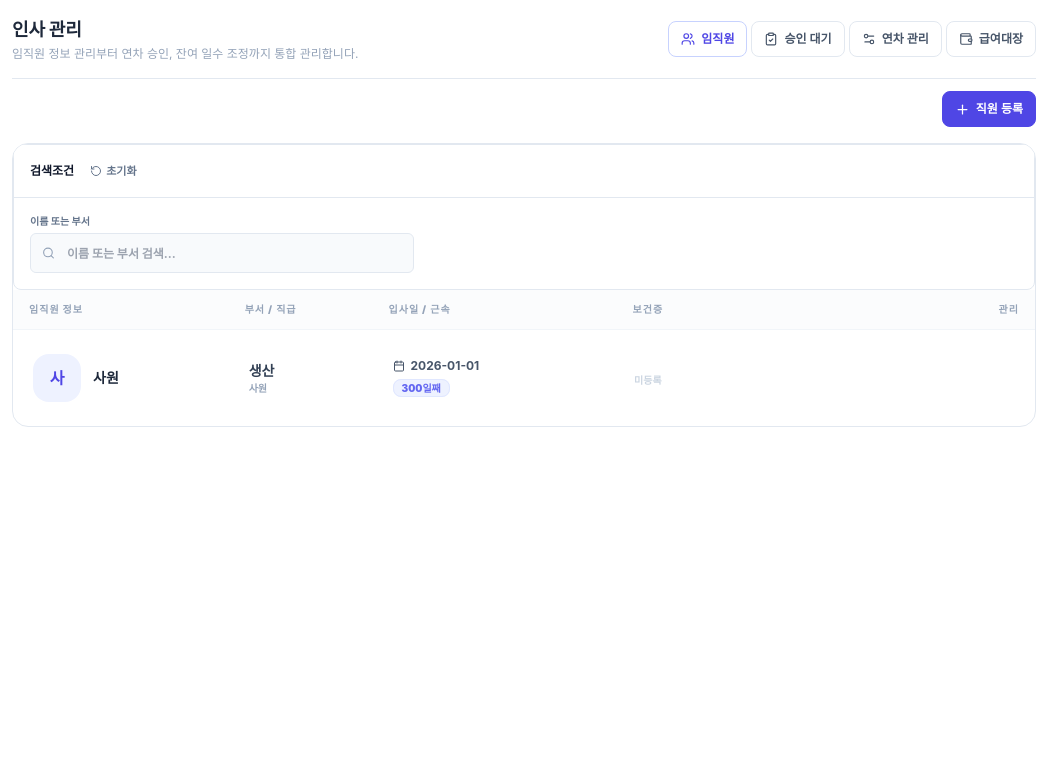
Test: 급여 저장 중 모든 변경을 잠그고 UID 변경 뒤 이전 ACK 안내를 새 계정에 표시하지 않는다
This screenshot has width=1048, height=768.
Click the button "급여대장" at (991, 39), box [946,21,1036,57]
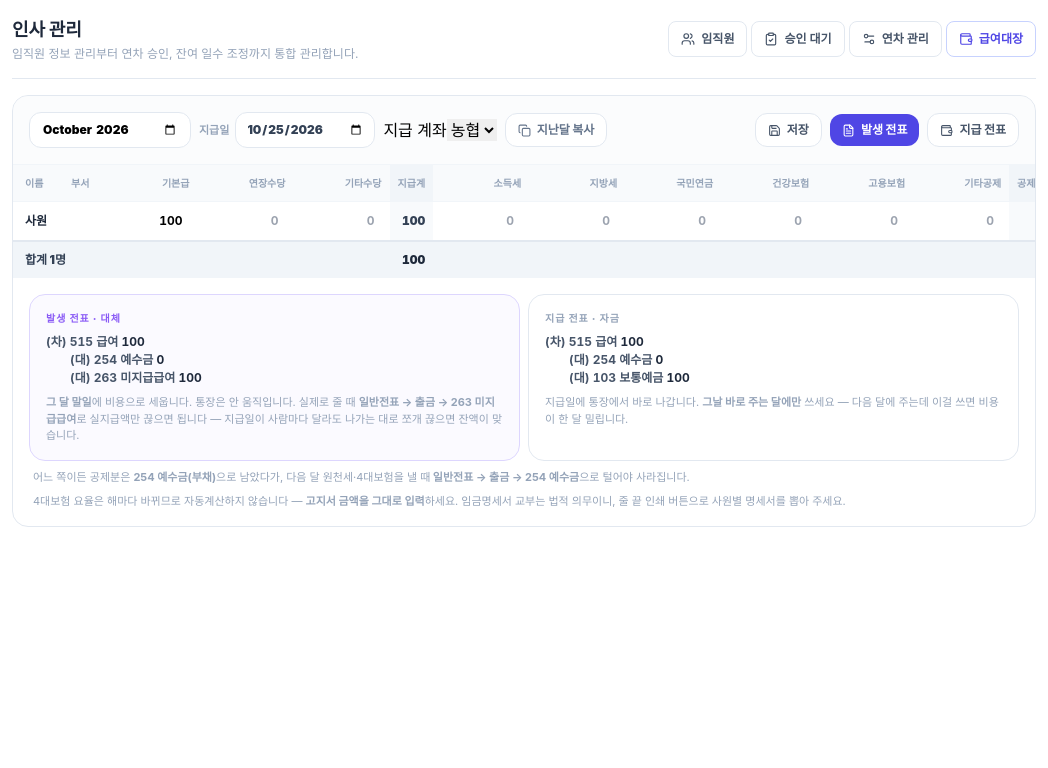
Click the button "저장" at (788, 130), box [755,113,822,147]
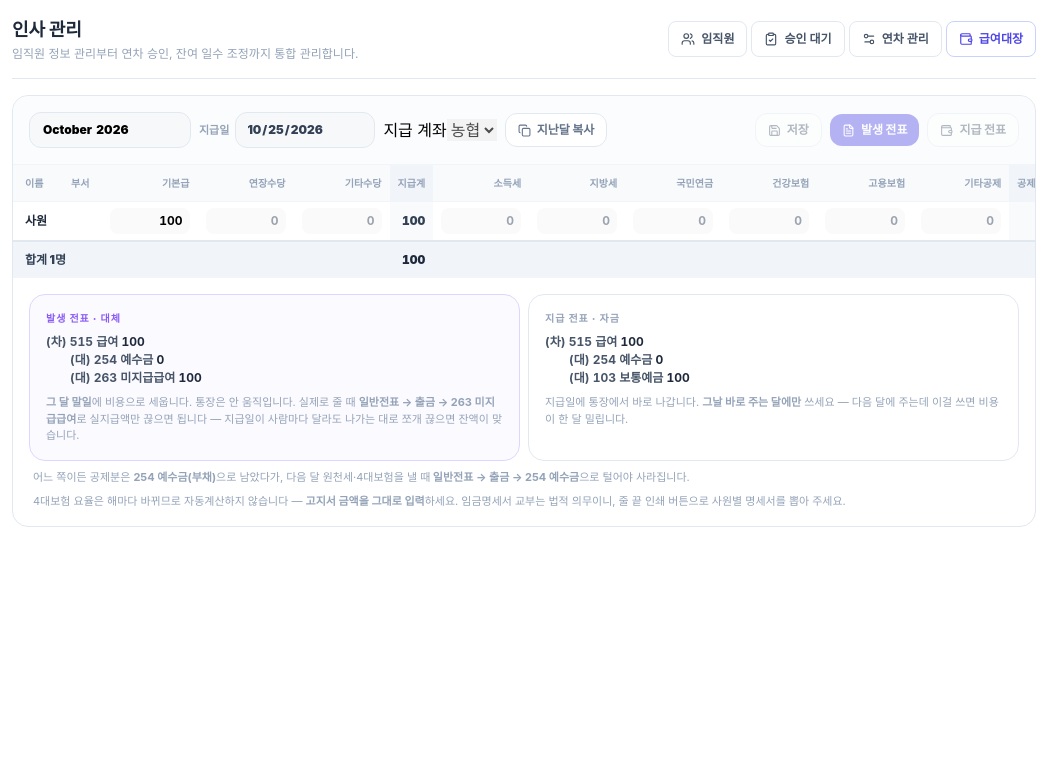
Result: the field named "급여 월" is disabled at [29,112,191,148]
Result: the dropdown named "급여 지급 계좌" is disabled at [447,119,497,141]
Result: the date field labelled "지급일" is disabled at [235,112,375,148]
